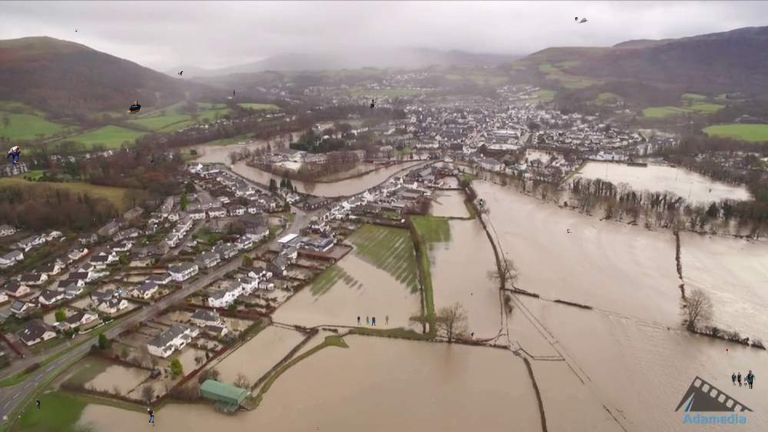Human: (731, 370, 756, 389), (357, 313, 389, 326), (5, 146, 21, 165), (370, 99, 391, 111), (123, 101, 141, 114), (147, 407, 155, 427), (575, 17, 589, 25), (118, 287, 129, 295), (75, 29, 84, 36), (36, 399, 40, 410), (479, 199, 483, 207), (178, 71, 183, 76), (567, 229, 573, 233), (471, 332, 475, 338), (365, 189, 368, 195), (150, 159, 154, 163), (233, 89, 235, 96), (726, 348, 728, 355), (24, 270, 26, 274), (317, 427, 319, 430), (471, 293, 473, 296), (506, 252, 508, 254), (94, 218, 95, 221), (259, 152, 260, 154)
